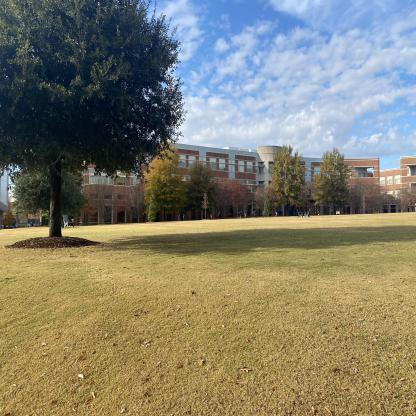EB-1: (58, 117, 380, 231)
